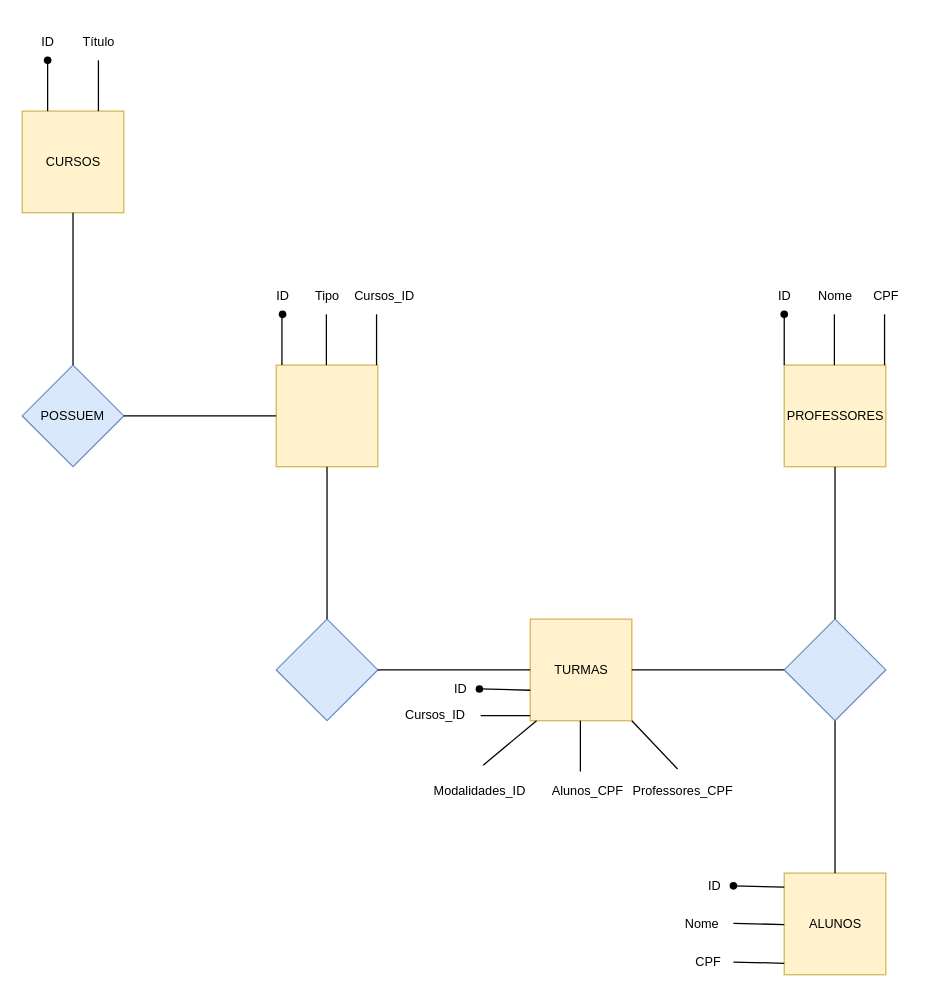
The diagram is 933 pixels wide and 1002 high, and some of its shapes have lost their labels. The centre of each missing label's shape, as x and y in pixels:
COMPOSTAS: point 834,669
CONTÉM: point 326,669
MODALIDADES: point 326,415
